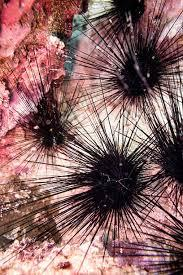urchin: (44, 125, 154, 249), (62, 3, 181, 107), (101, 94, 183, 208), (11, 69, 86, 159), (94, 0, 150, 39)
